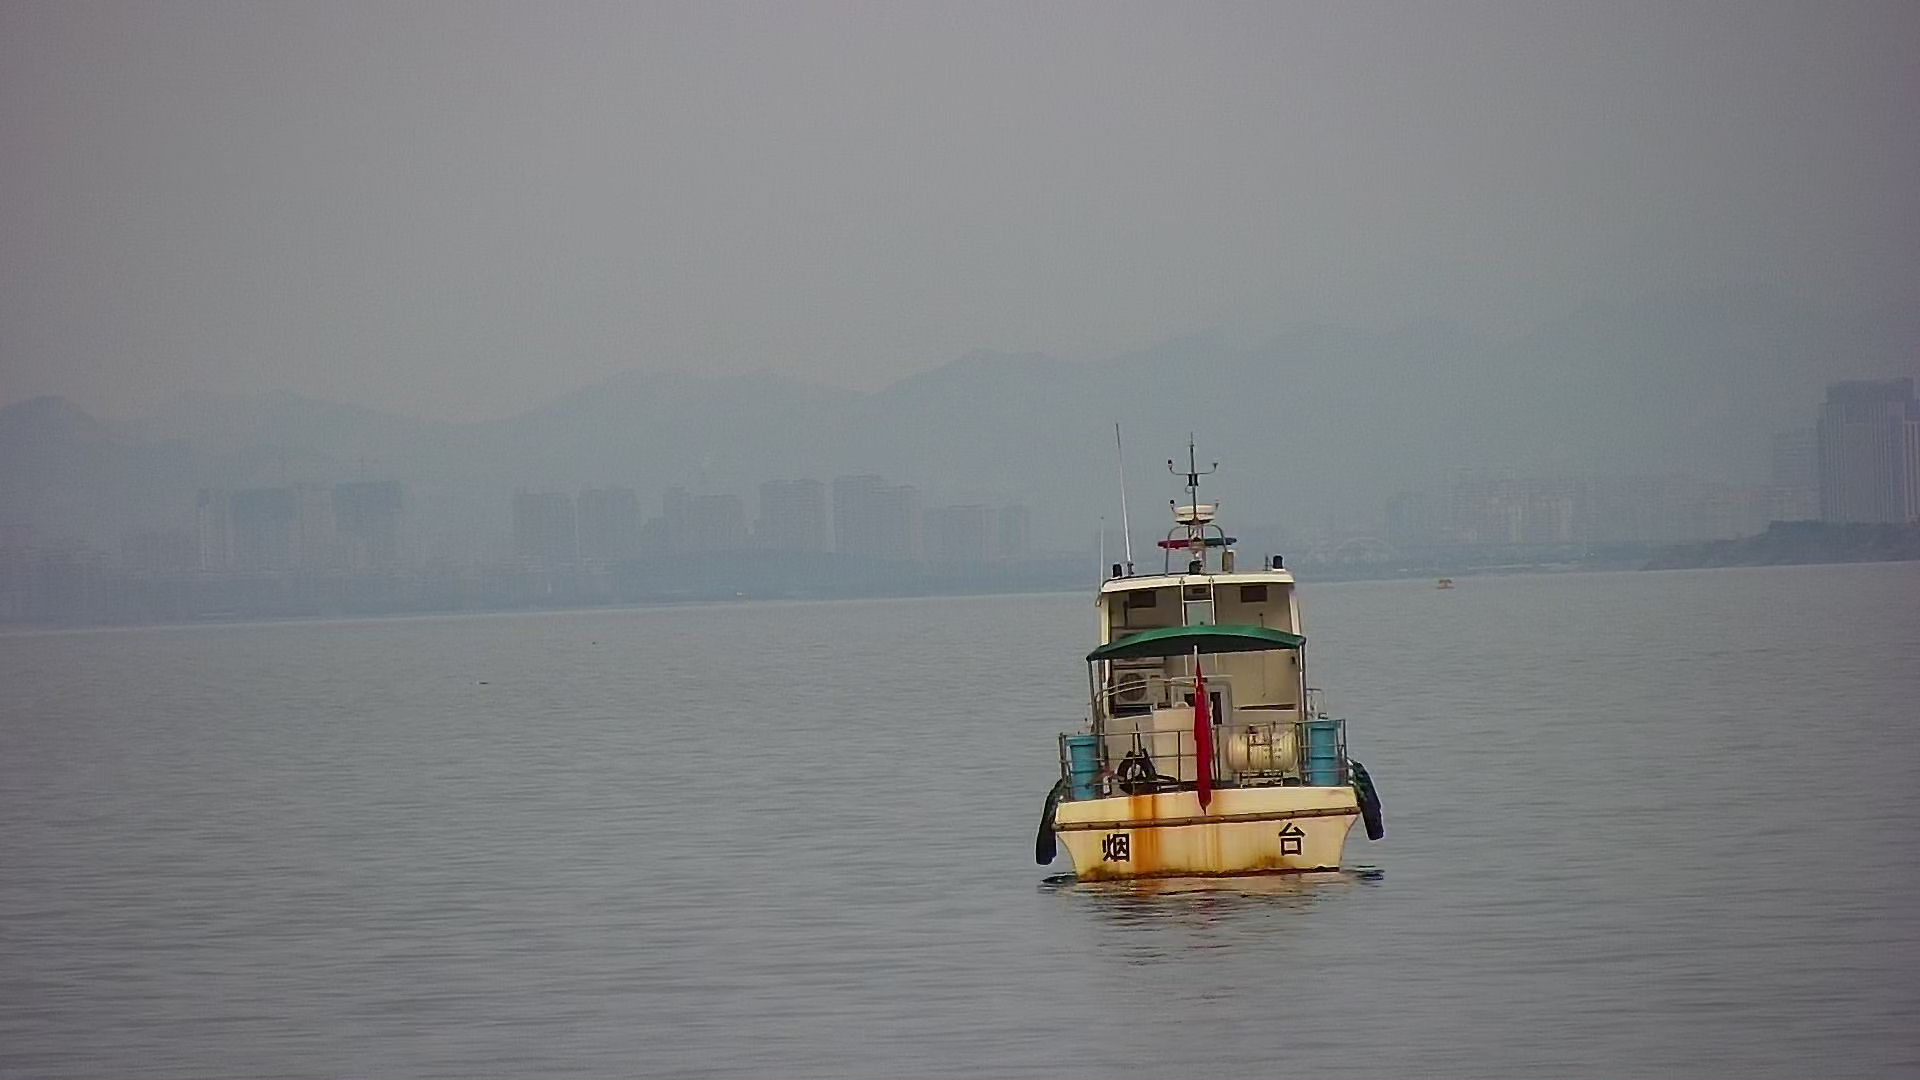ship: (1040, 440, 1382, 895)
